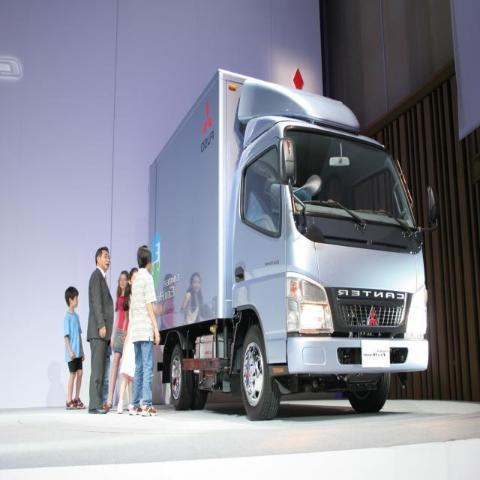truck: (150, 65, 444, 419)
